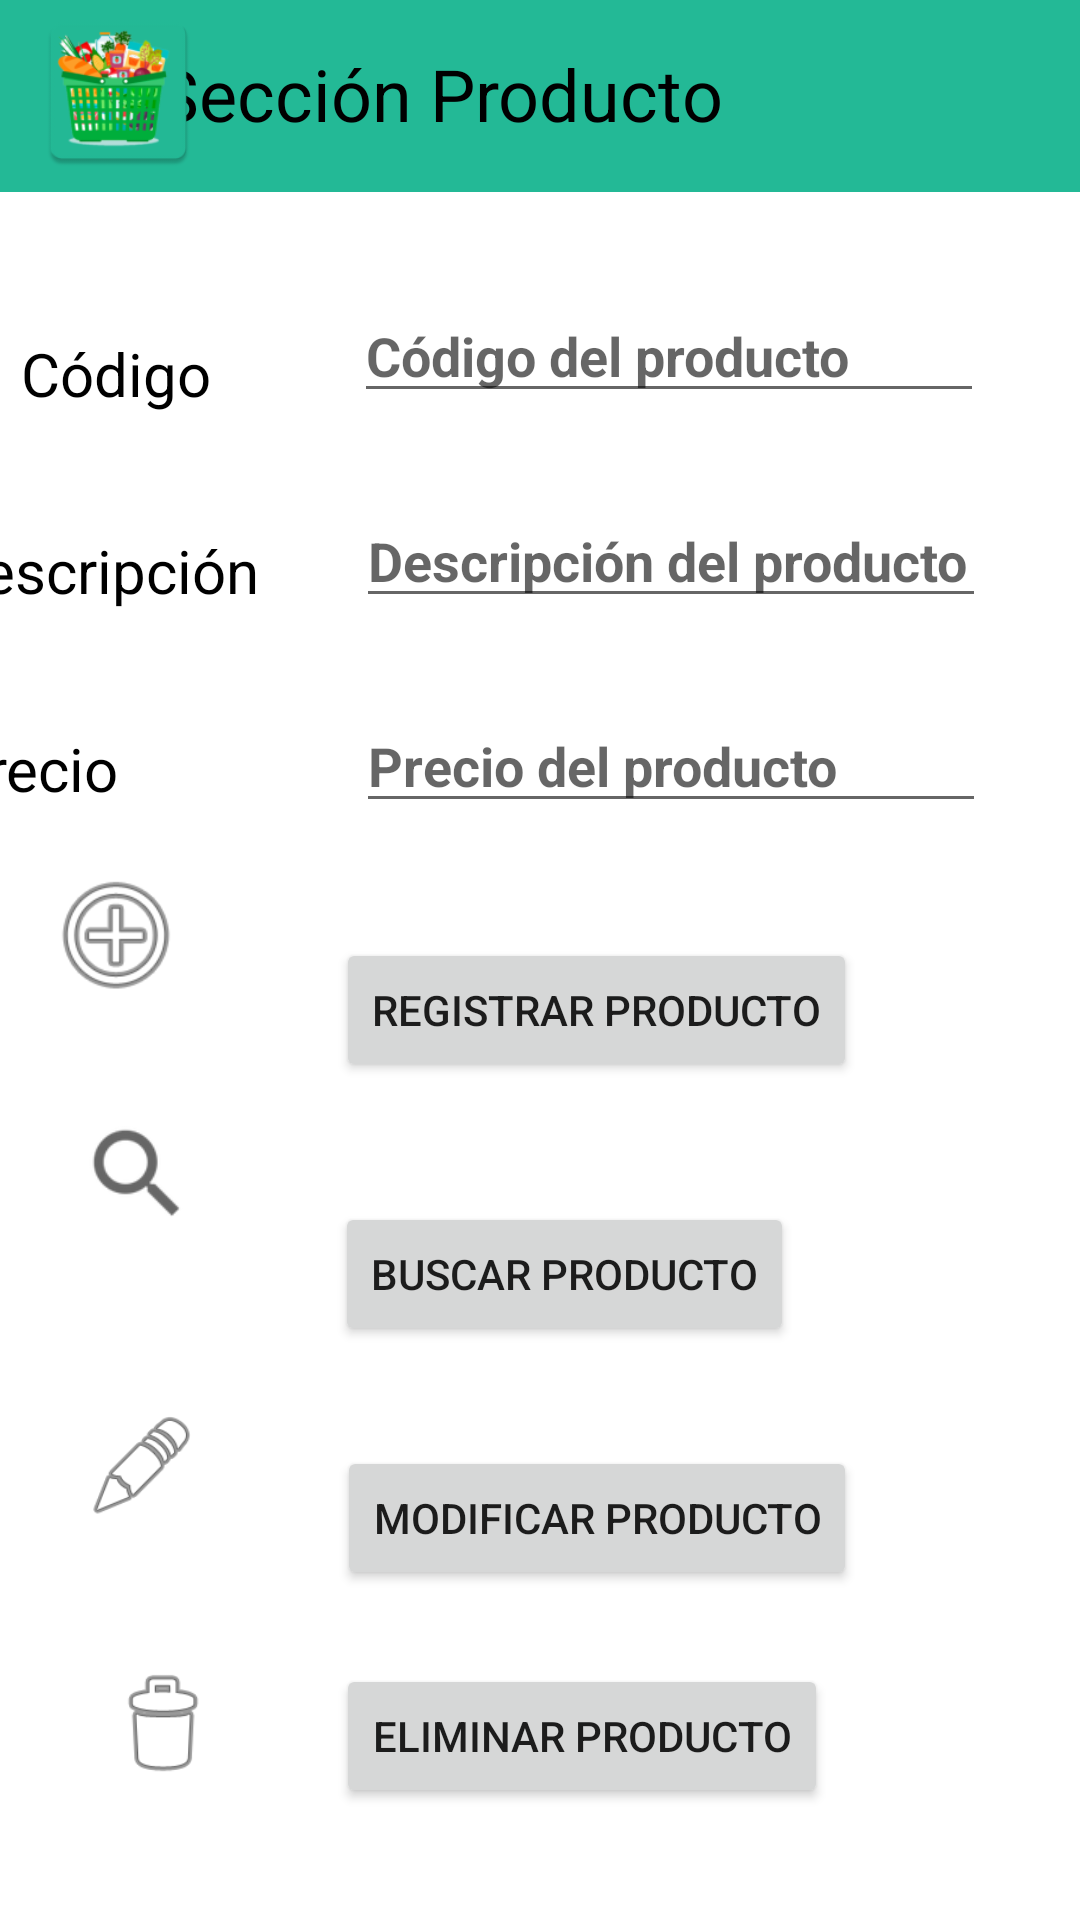

Named icons in this screenshot (1080 × 1920) and their bounding boxes, (x1, y1, x2, y2):
add: (62, 882, 170, 989)
delete: (128, 1675, 198, 1771)
edit: (93, 1417, 190, 1514)
